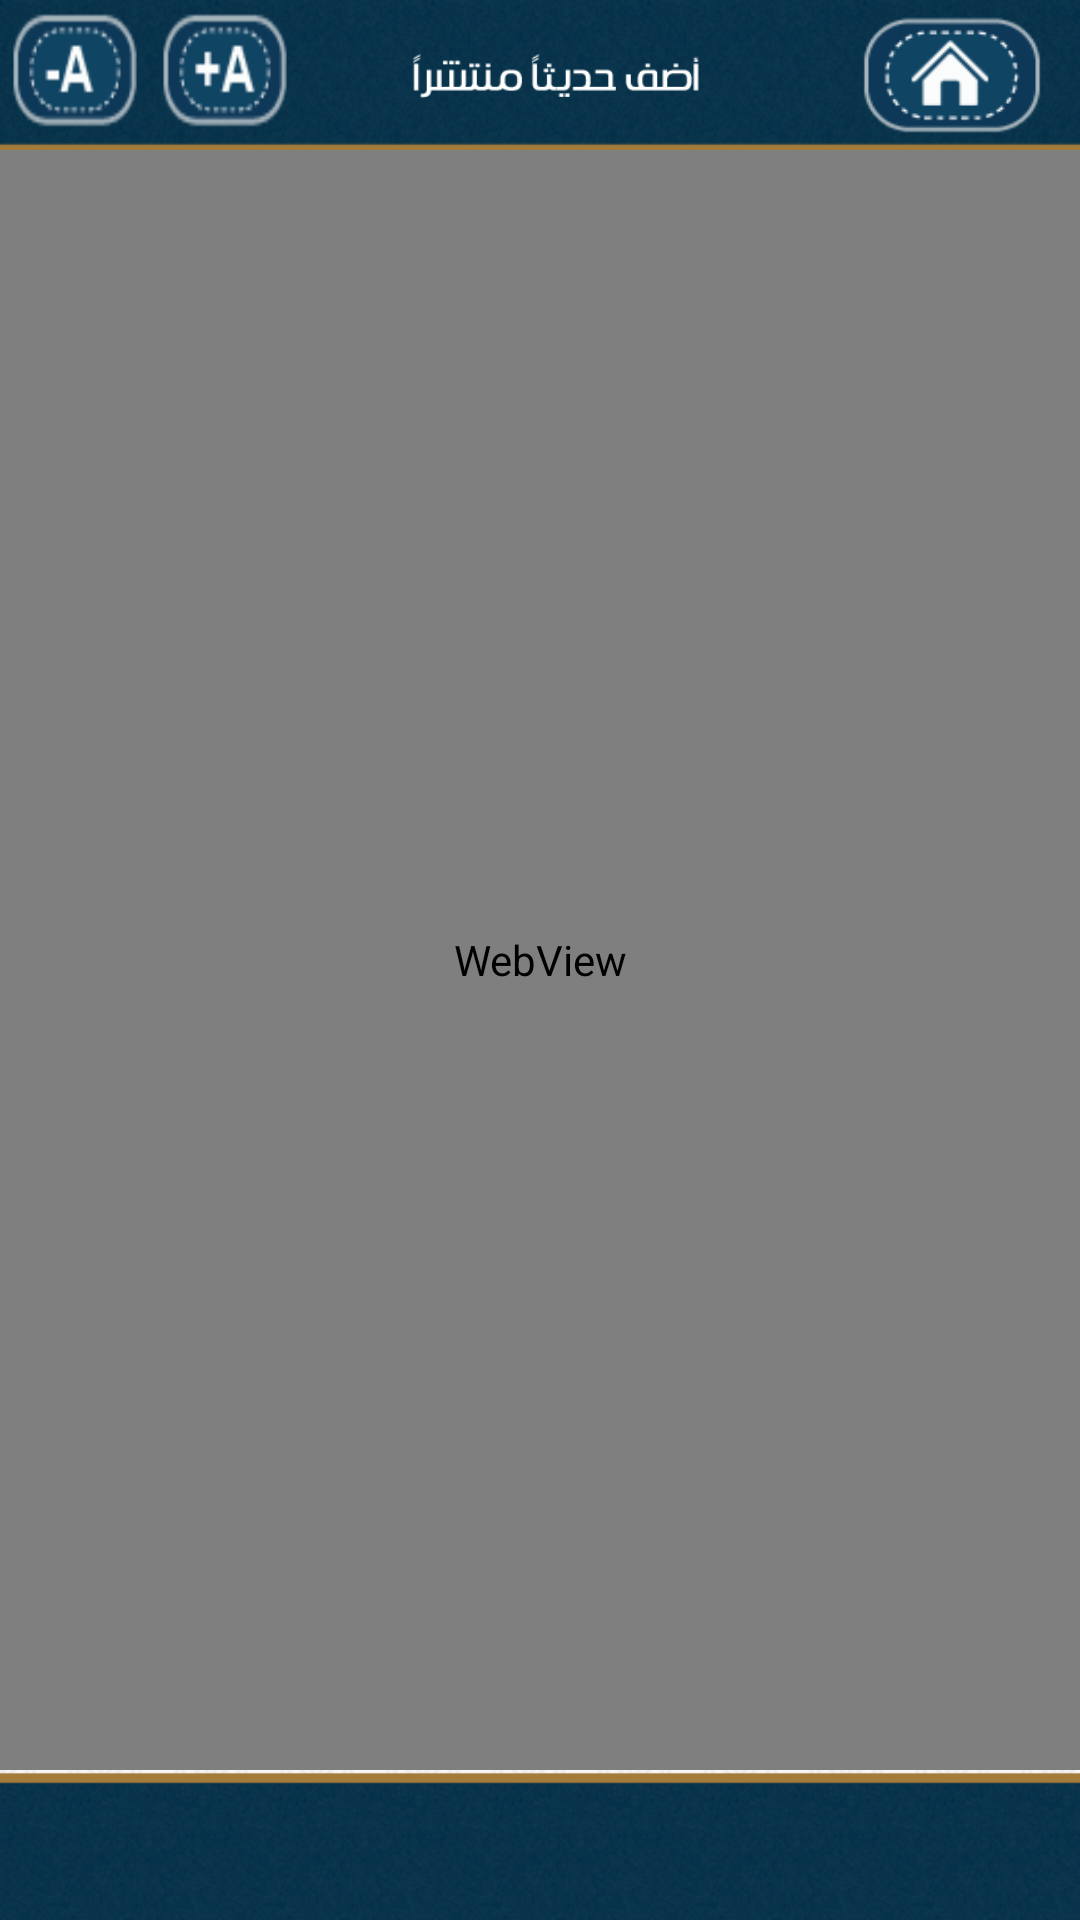

Named icons in this screenshot (1080px×1920px) and their centers, (x,y):
home: (952,75)
